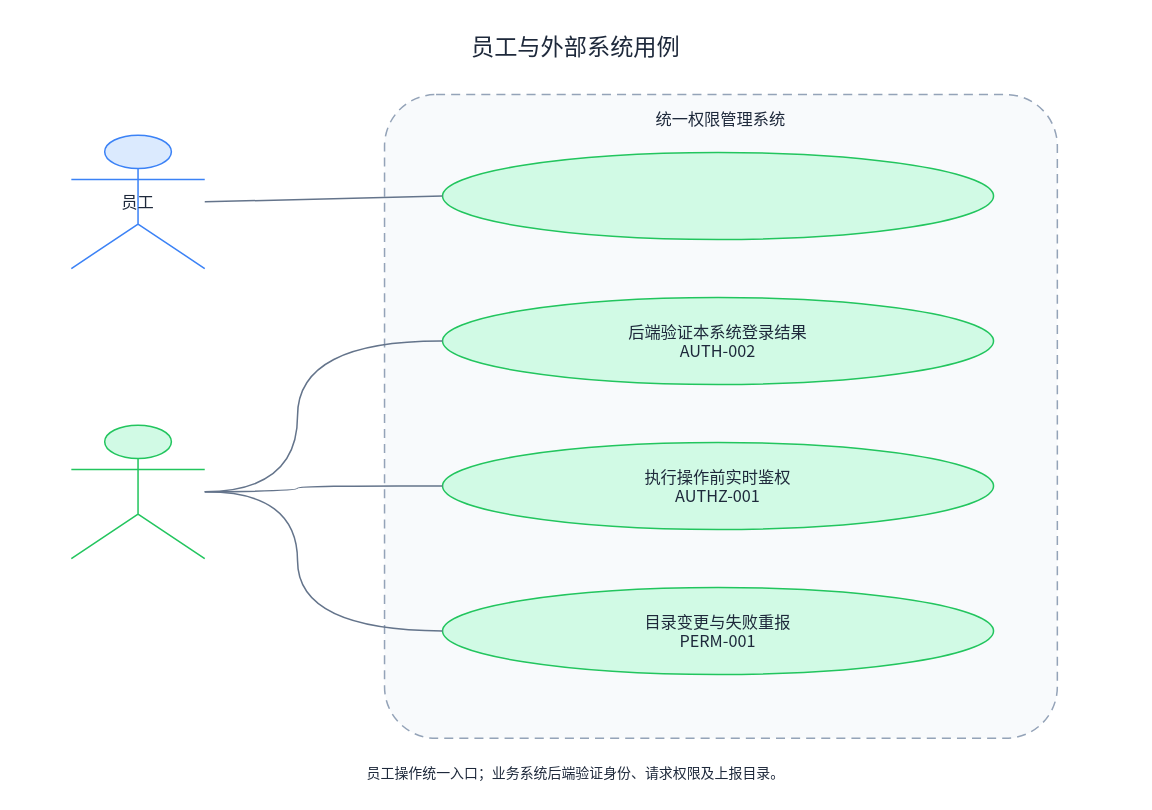
Image size: 1152x810. Some labels were removed from this diagram. The shapes that lost their labels are listed below. From the top down, each one's box as (x1, y1, x2, y2) in pixels, then its label:
(441, 151, 994, 240): 员工跳转登录、复用会话及退出 AUTH-002、003、004
(70, 424, 205, 559): 外部系统
